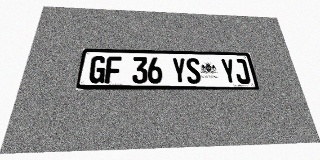3: (132, 57, 147, 84)
6: (148, 57, 162, 84)
F: (104, 56, 122, 83)
G: (88, 56, 107, 83)
J: (233, 59, 251, 84)
S: (185, 58, 202, 84)
Y: (220, 59, 238, 84), (171, 58, 187, 84)
